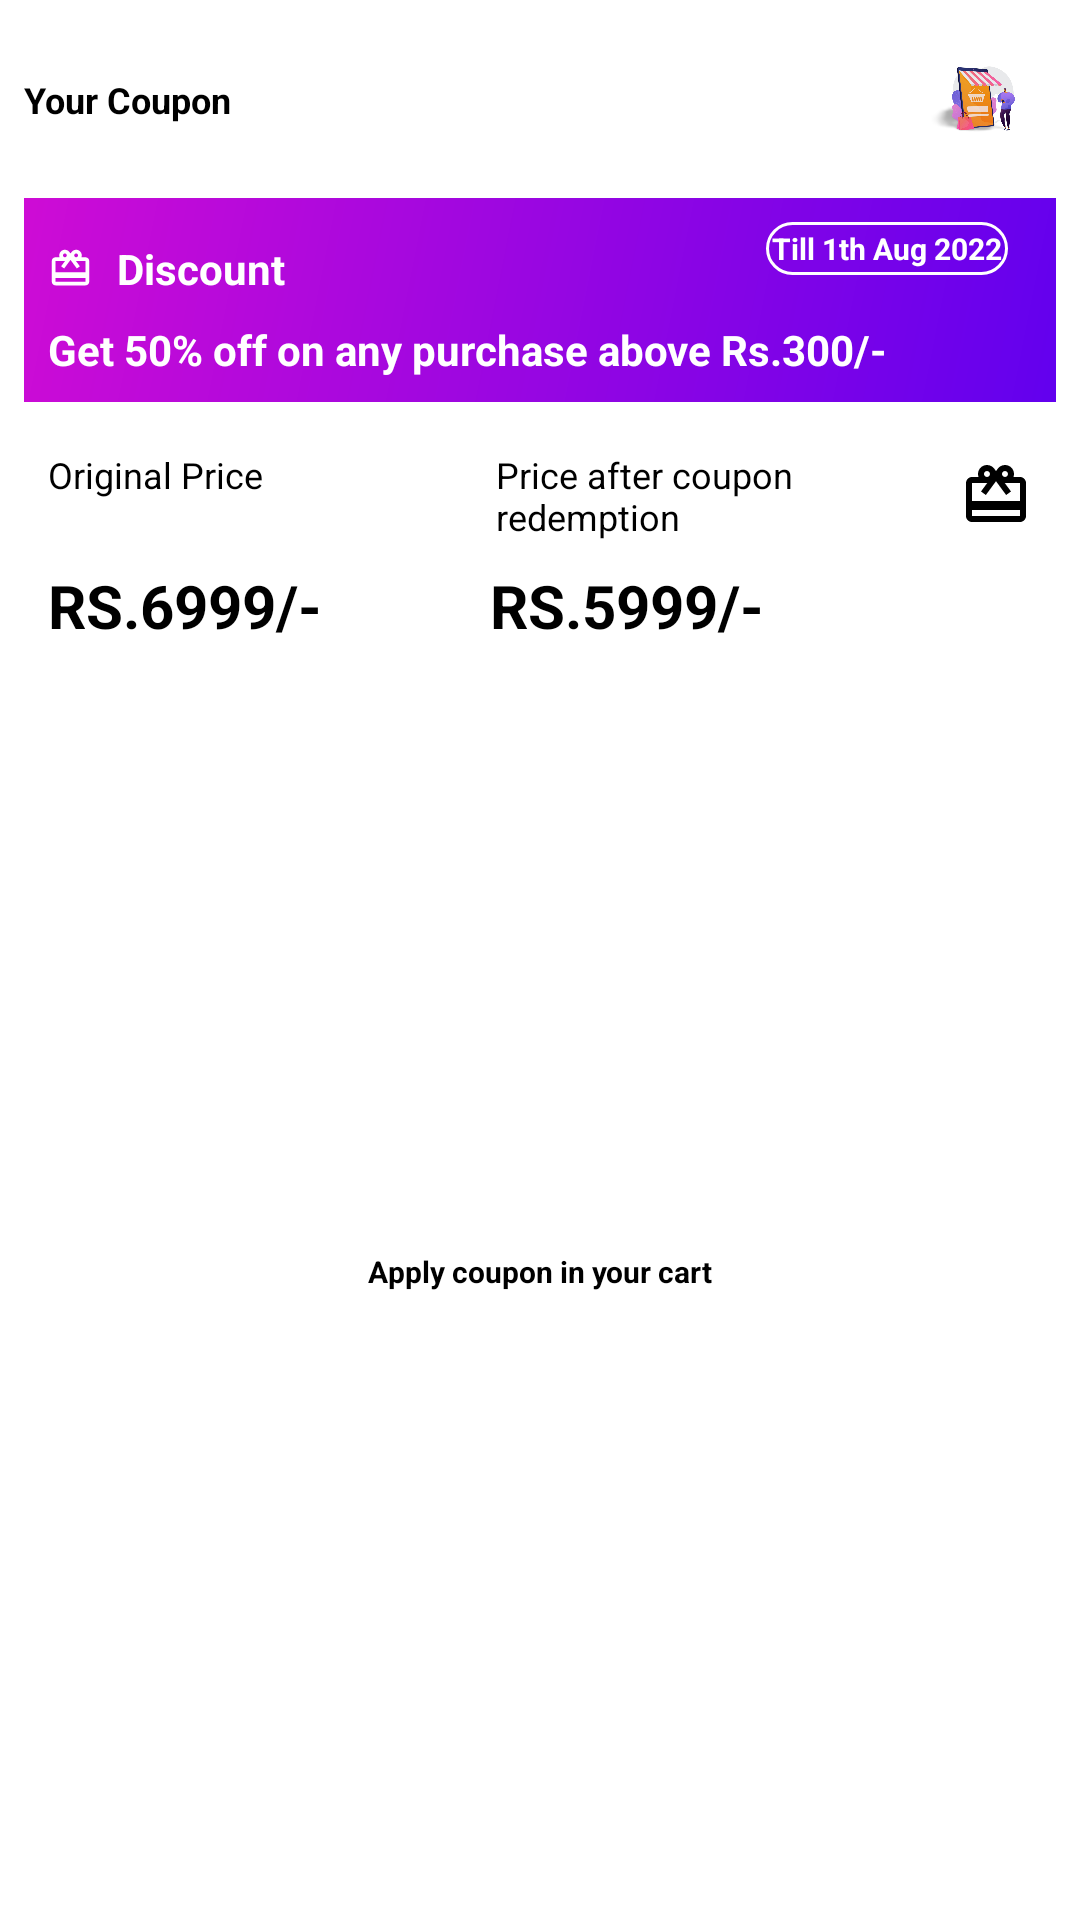

Icons on this 1080 x 1920 Android screen, each with its box as bbox=[x1, y1, x2, y2]:
registerbg: bbox=[939, 67, 1015, 131]
